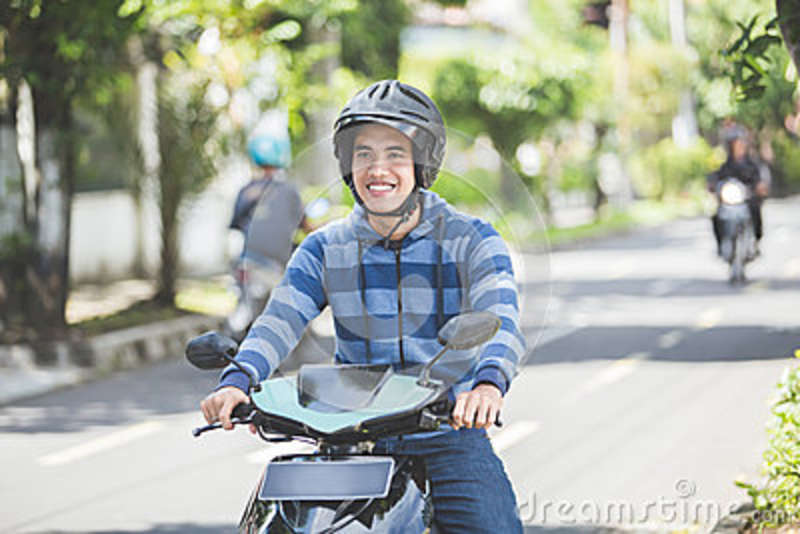helmet: (329, 71, 444, 187)
